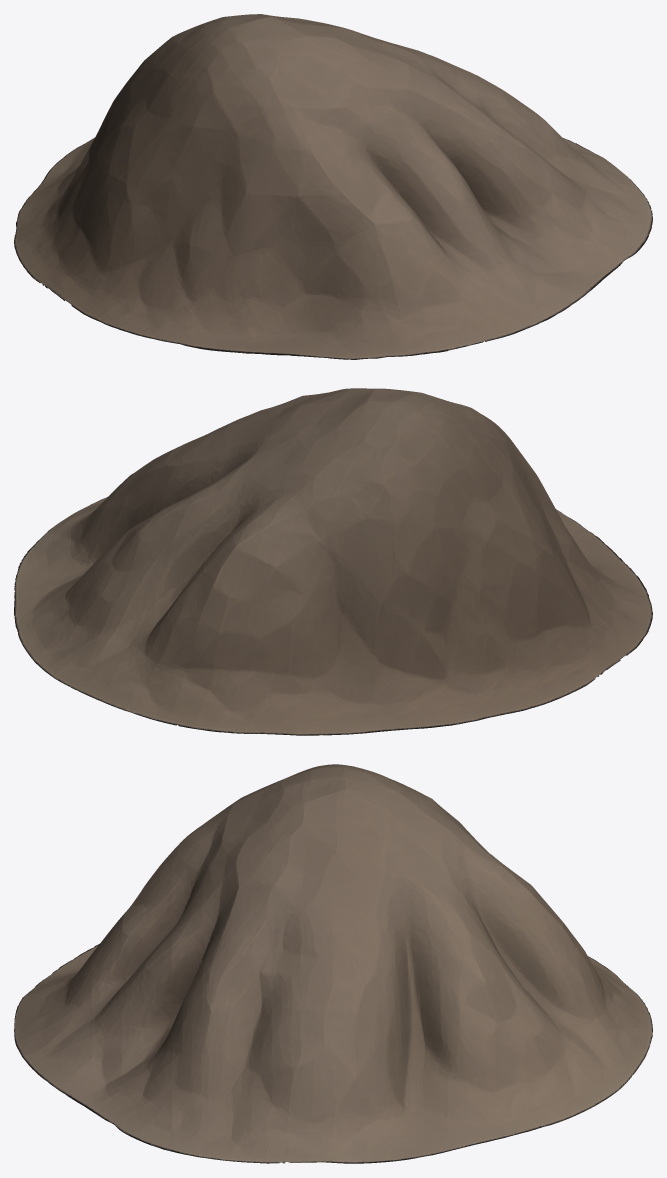
The picture shows the model from 3 angles, top to bottom: view 1: azimuth 30°, elevation 25°; view 2: azimuth 150°, elevation 25°; view 3: azimuth 270°, elevation 25°; orthographic projection. The views are drawn at different scales.
Parts seen in each view (by area): view 1: world; view 2: world; view 3: world.
Part boxes in pixels (left/top/right/bottom): world: left=14, top=14, right=652, bottom=359; world: left=14, top=388, right=652, bottom=735; world: left=14, top=764, right=652, bottom=1163.
Bounding box in the file's own units: 1 × 0.384 × 0.9996.
1 material, 1 textured.
